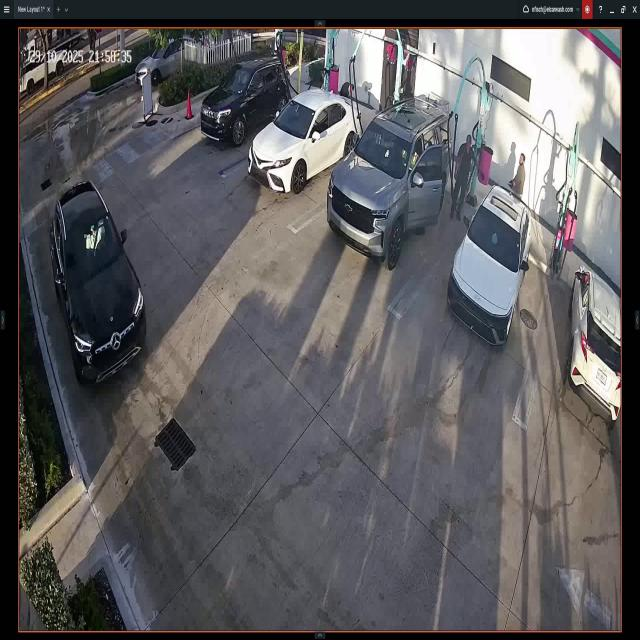Car: (328, 98, 452, 264), (48, 182, 146, 381), (450, 184, 531, 344), (250, 89, 362, 185), (566, 264, 621, 425), (200, 60, 288, 136), (138, 40, 182, 86)
